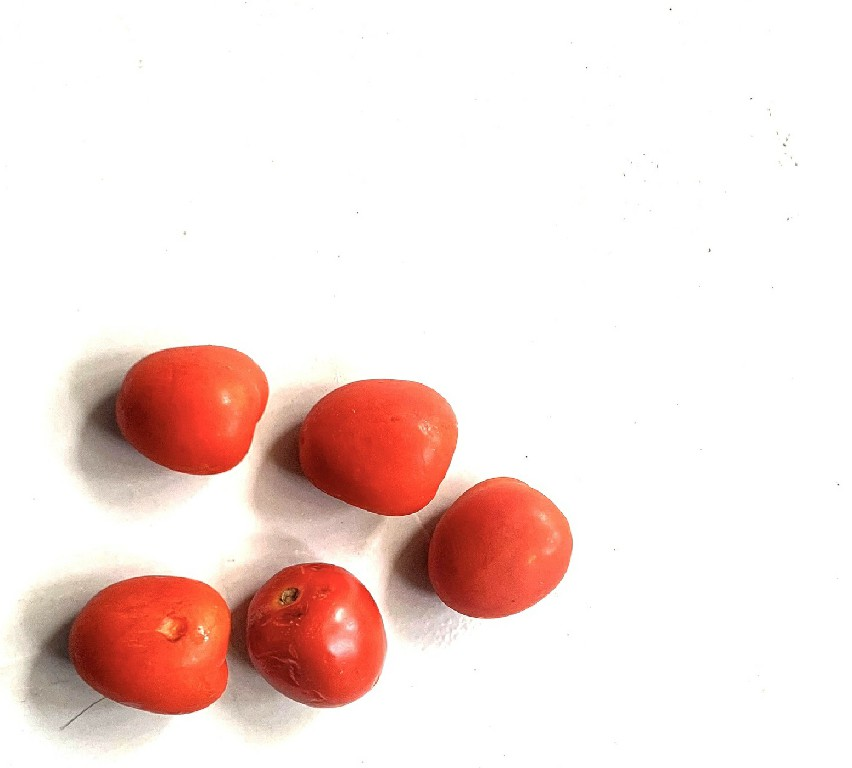NG: (65, 575, 235, 718), (242, 557, 389, 713)
OK: (300, 373, 461, 520), (117, 343, 268, 474), (431, 482, 568, 615)
